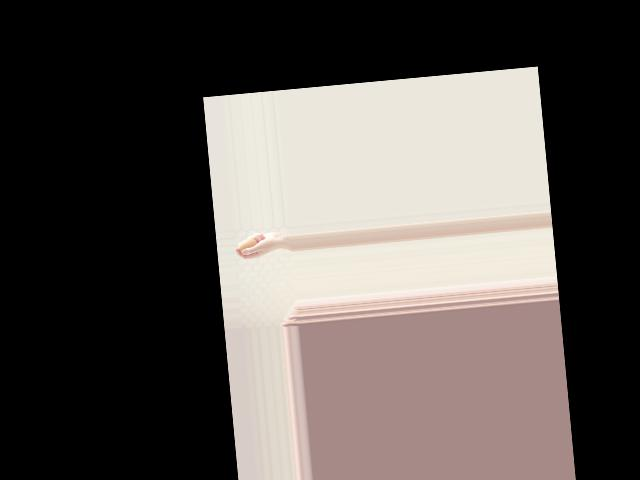egg: (237, 237, 258, 254)
